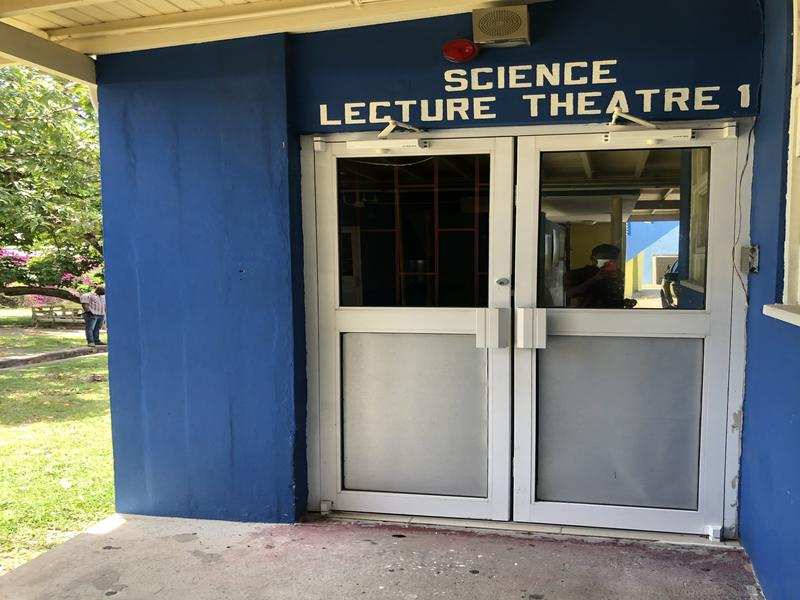18.0051836_-76.7497262_pclt1: (282, 52, 770, 571)
